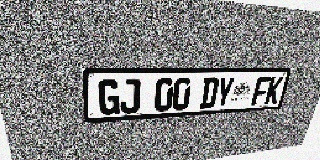0: (154, 78, 174, 112), (172, 78, 192, 111)
D: (199, 77, 220, 109)
F: (251, 77, 271, 105)
G: (98, 79, 119, 116)
J: (120, 79, 140, 114)
K: (264, 76, 284, 104)
Y: (215, 77, 235, 108)
